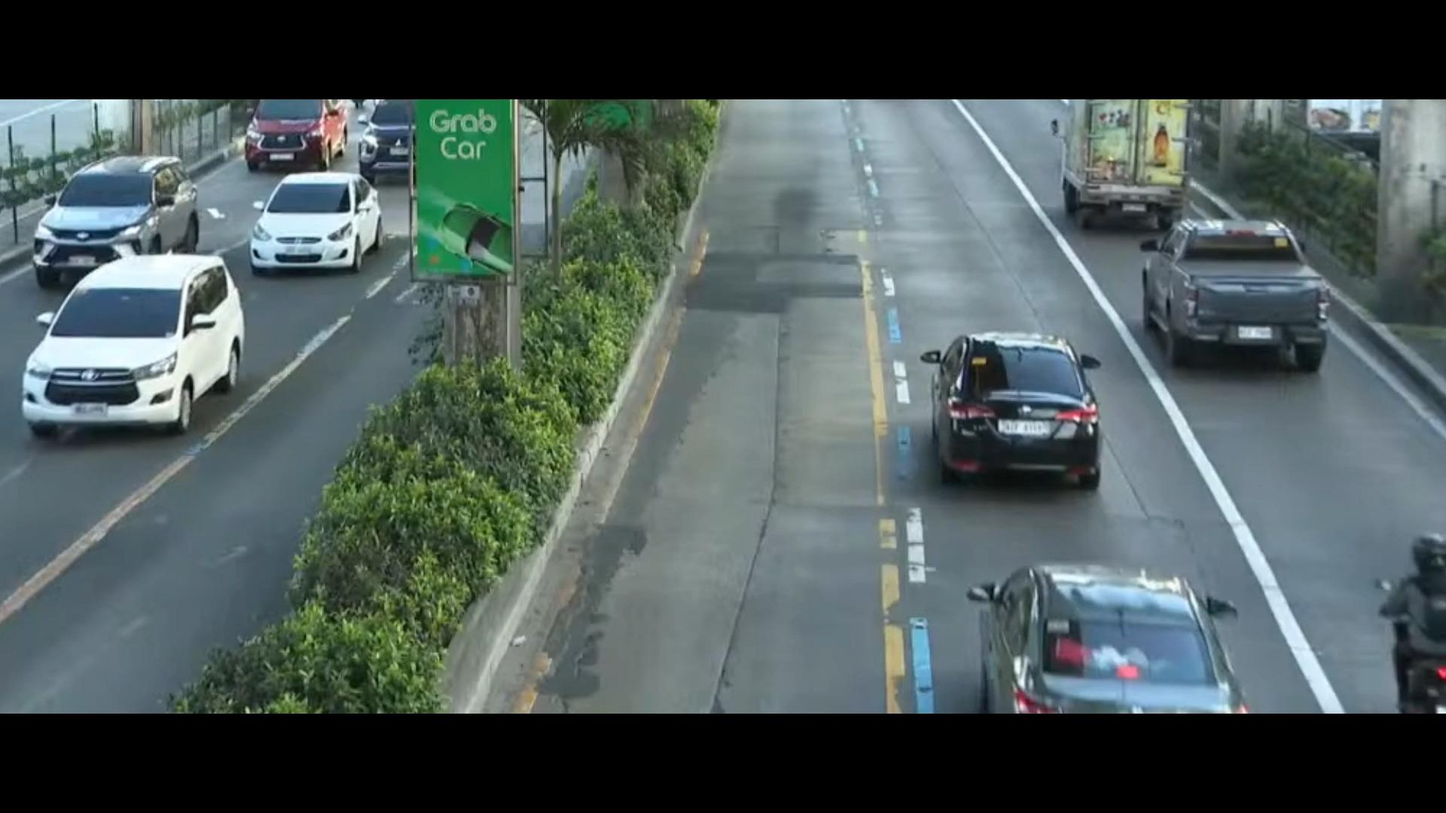Motorcycle: (1354, 518, 1446, 715)
Pickup: (1111, 177, 1377, 388)
SUV: (21, 253, 256, 444), (19, 138, 219, 286), (213, 101, 342, 174)
Sedan: (953, 535, 1259, 724), (922, 311, 1115, 480), (248, 151, 388, 283)
Truck: (1036, 101, 1202, 243)
